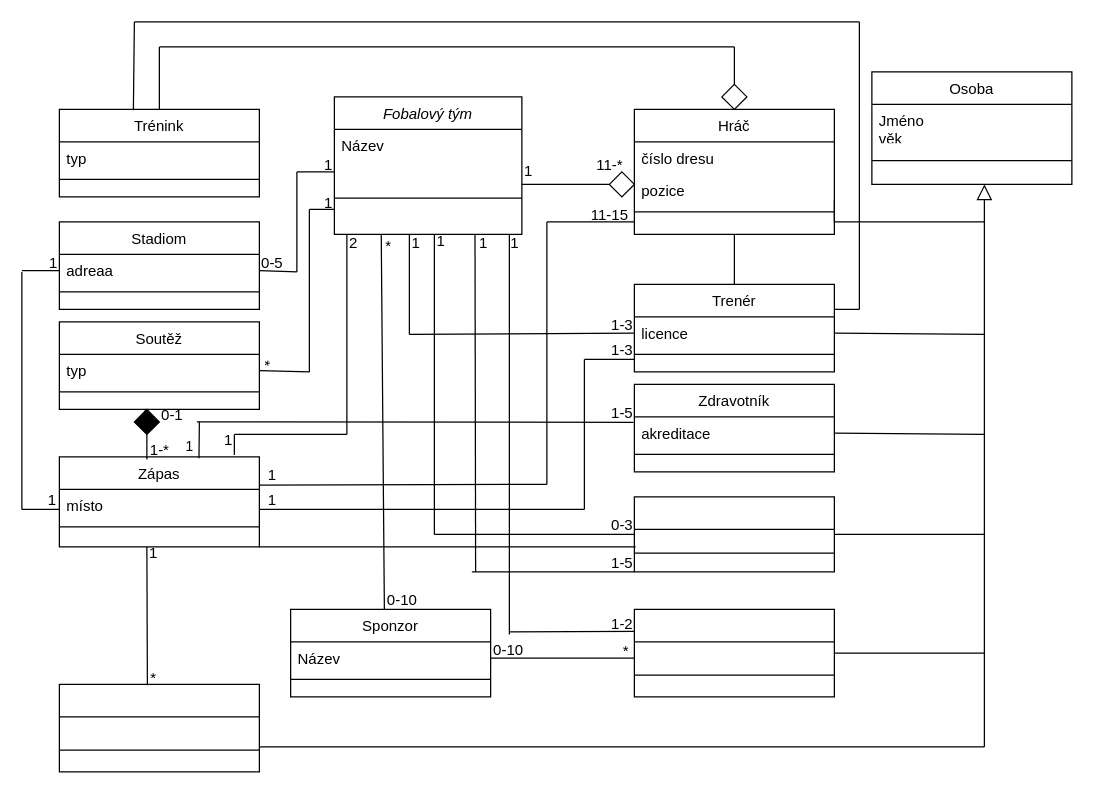
This 1094x794 diagram has some shape labels left out. Each missing label, with the centre of its shape:
Asistent trenéra: the point at 733,534
Divák: the point at 158,727
Manažer: the point at 733,652
